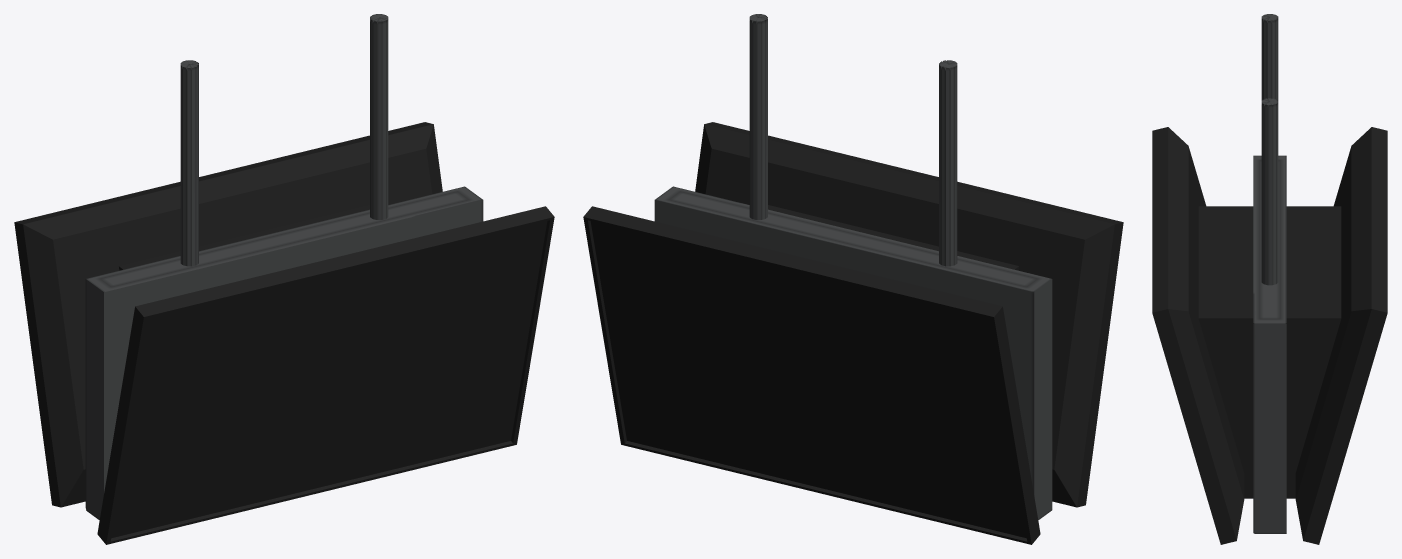
The model's file is pids_1.obj.
3 views of the same model, side by side, from view 1: azimuth 30°, elevation 25°; view 2: azimuth 150°, elevation 25°; view 3: azimuth 270°, elevation 25° (orthographic). The views are drawn at different scales.
Parts seen in each view (by area): view 1: cube, cylinder; view 2: cube, cylinder; view 3: cube, cylinder.
Part boxes in pixels (bbox=[...]): cube: bbox=[14, 122, 554, 544]; cylinder: bbox=[180, 14, 388, 266]; cube: bbox=[583, 122, 1123, 544]; cylinder: bbox=[749, 14, 957, 266]; cube: bbox=[1152, 127, 1387, 544]; cylinder: bbox=[1261, 14, 1278, 285].
Size of the model in its own units: 1.62 by 1.64 by 0.8884.
2 materials, 2 textured.
